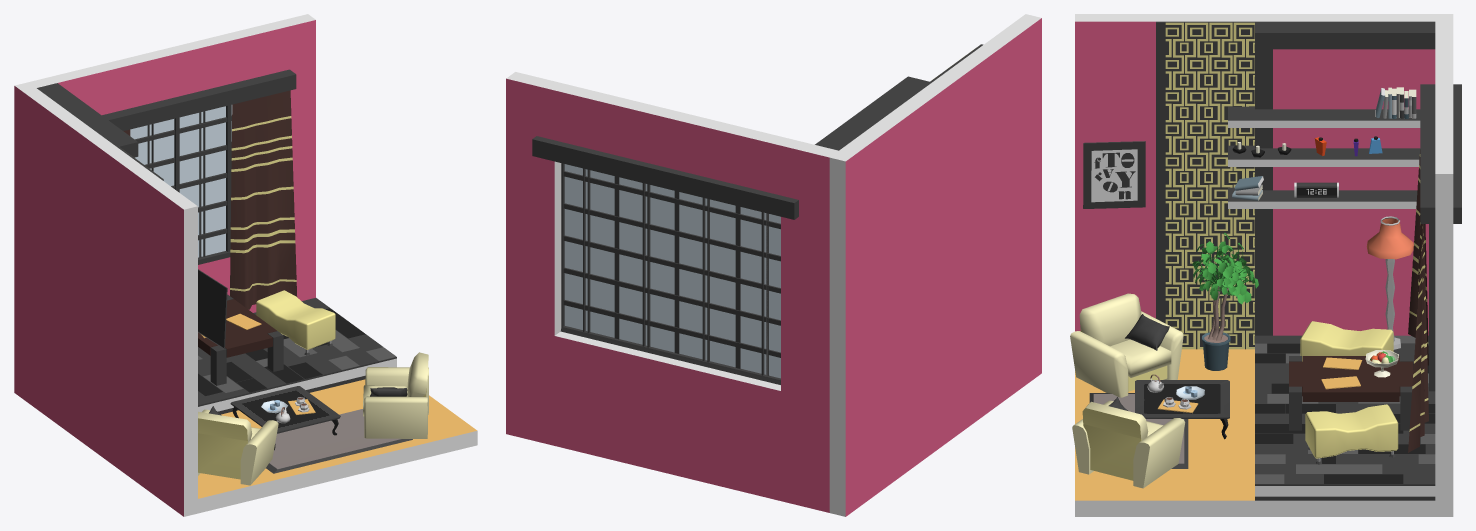
The model's file is room_26.glb.
3 renders of one model, left to right at view 1: azimuth 30°, elevation 25°; view 2: azimuth 150°, elevation 25°; view 3: azimuth 270°, elevation 25°, orthographic. The views are drawn at different scales.
Parts seen in each view (by area): view 1: Walls_121.002, window_016.001, Curtains_007.001, Walls_121.005, Walls_010.009, Walls_121.001, floor_007.001, armchair_020.002, armchair_020.001, carpet_001.002, coffee_table_025.001, ottoman_009.002 (+7 smaller); view 2: Walls_121.002, window_016.001, Walls_121.006, Walls_121.001, Walls_121.004, Walls_121.005, Walls_041.004; view 3: Walls_121.003, Walls_121.002, Walls_041.003, Walls_010.009, wall_020.001, floor_007.001, armchair_020.001, Walls_121.001, armchair_020.002, coffee_table_025.001, Walls_041.004, window_016.001 (+22 smaller).
Boxes of the visible parts, x1=… form: Walls_121.002: x1=14, y1=82, x2=197, y2=516; window_016.001: x1=102, y1=69, x2=296, y2=264; Curtains_007.001: x1=230, y1=90, x2=297, y2=309; Walls_121.005: x1=71, y1=24, x2=274, y2=115; Walls_010.009: x1=198, y1=379, x2=477, y2=513; Walls_121.001: x1=266, y1=14, x2=315, y2=301; floor_007.001: x1=198, y1=298, x2=396, y2=405; armchair_020.002: x1=363, y1=352, x2=428, y2=438; armchair_020.001: x1=198, y1=406, x2=278, y2=485; carpet_001.002: x1=266, y1=409, x2=412, y2=473; coffee_table_025.001: x1=198, y1=294, x2=283, y2=385; ottoman_009.002: x1=256, y1=290, x2=335, y2=355; Walls_121.002: x1=829, y1=14, x2=1041, y2=516; window_016.001: x1=532, y1=136, x2=798, y2=384; Walls_121.006: x1=554, y1=331, x2=780, y2=500; Walls_121.001: x1=506, y1=72, x2=563, y2=445; Walls_121.004: x1=781, y1=139, x2=838, y2=512; Walls_121.005: x1=554, y1=83, x2=789, y2=195; Walls_041.004: x1=815, y1=76, x2=931, y2=150; Walls_121.003: x1=1273, y1=49, x2=1435, y2=335; Walls_121.002: x1=1075, y1=14, x2=1453, y2=331; Walls_041.003: x1=1156, y1=21, x2=1254, y2=349; Walls_010.009: x1=1075, y1=349, x2=1435, y2=516; wall_020.001: x1=1165, y1=22, x2=1254, y2=349; floor_007.001: x1=1255, y1=335, x2=1435, y2=483; armchair_020.001: x1=1070, y1=293, x2=1183, y2=397; Walls_121.001: x1=1435, y1=151, x2=1453, y2=516; armchair_020.002: x1=1072, y1=397, x2=1185, y2=488; coffee_table_025.001: x1=1289, y1=356, x2=1413, y2=430; Walls_041.004: x1=1255, y1=21, x2=1435, y2=49; window_016.001: x1=1420, y1=84, x2=1461, y2=391.
Size of the model in its own units: 4.2 by 4.2 by 4.35.
1 material, 1 textured.
